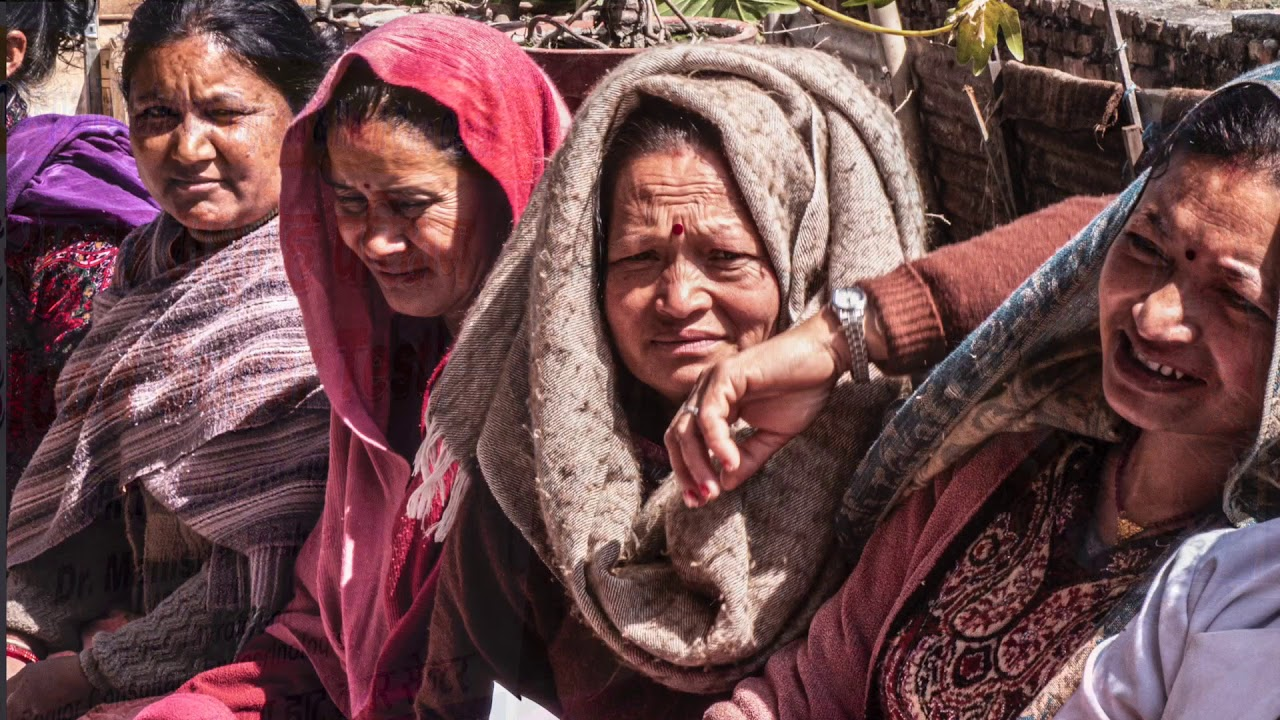human: (671, 51, 1280, 720), (416, 30, 954, 720), (169, 15, 577, 720), (8, 1, 341, 720)
